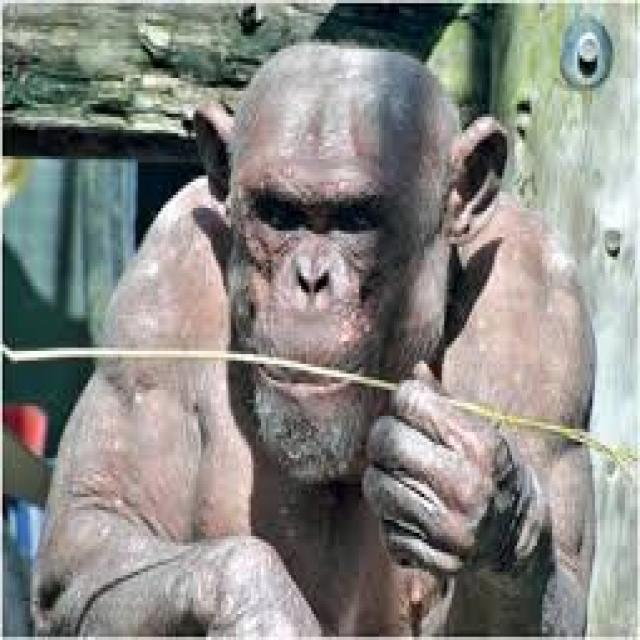chimpanzee: (33, 42, 595, 634)
